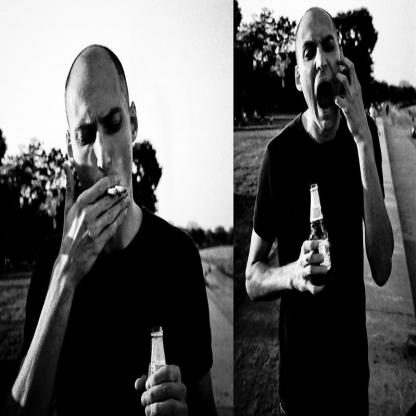drinking: (309, 184, 332, 278)
smoking: (306, 247, 314, 262), (113, 186, 126, 193), (105, 189, 118, 195)
